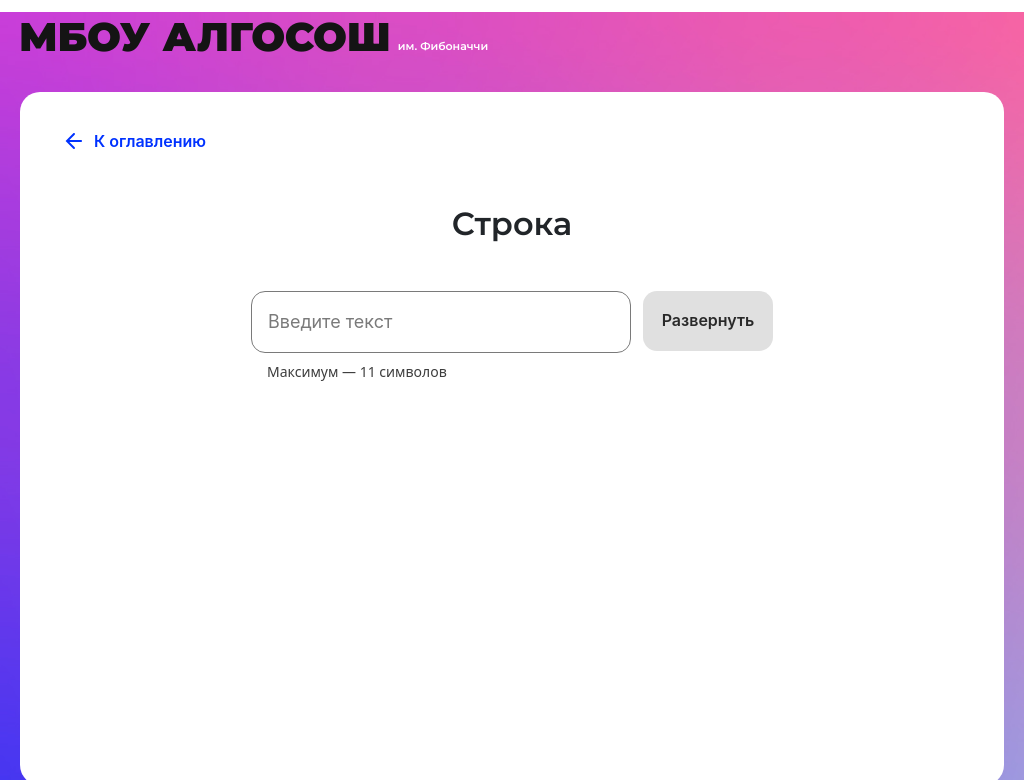
string page works correctly › start button is disabled when input is empty
The image size is (1024, 780).
Expected: the button "Развернуть" is disabled, [643,291,773,351]
Type "string" into the field with placeholder "Введите текст". click: (441, 322)
box: [251,291,631,353]
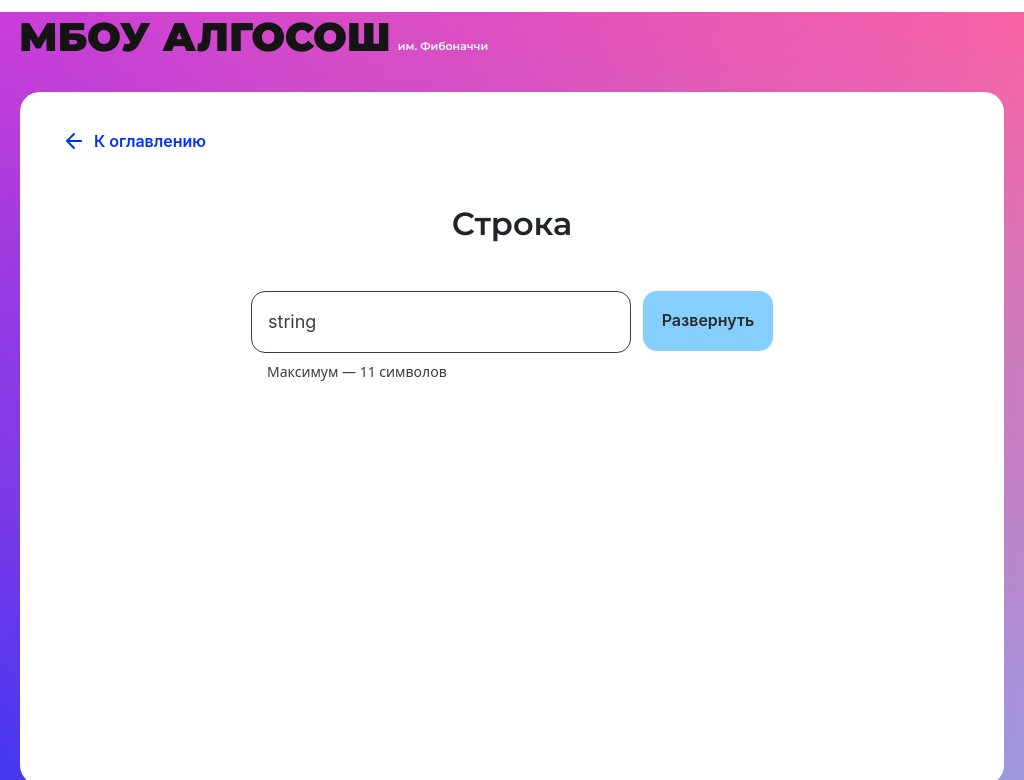
Expected: the button is enabled
Clear the field. click: (441, 322)
box: [251,291,631,353]
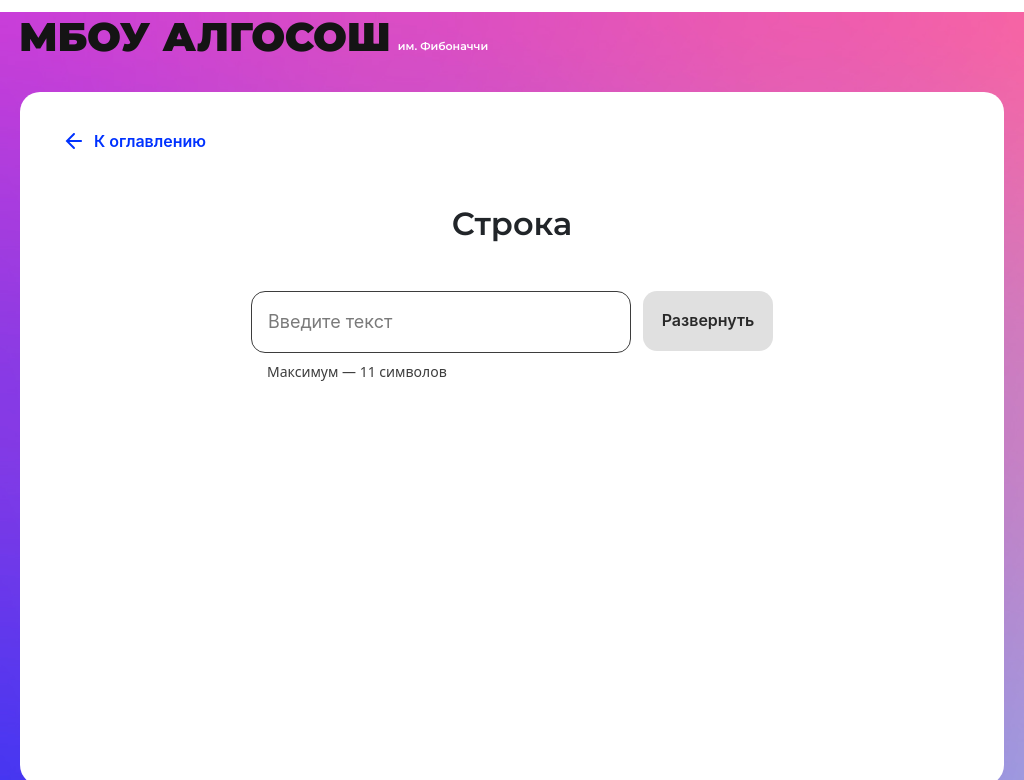
Result: the button "Развернуть" is disabled at [643,291,773,351]
